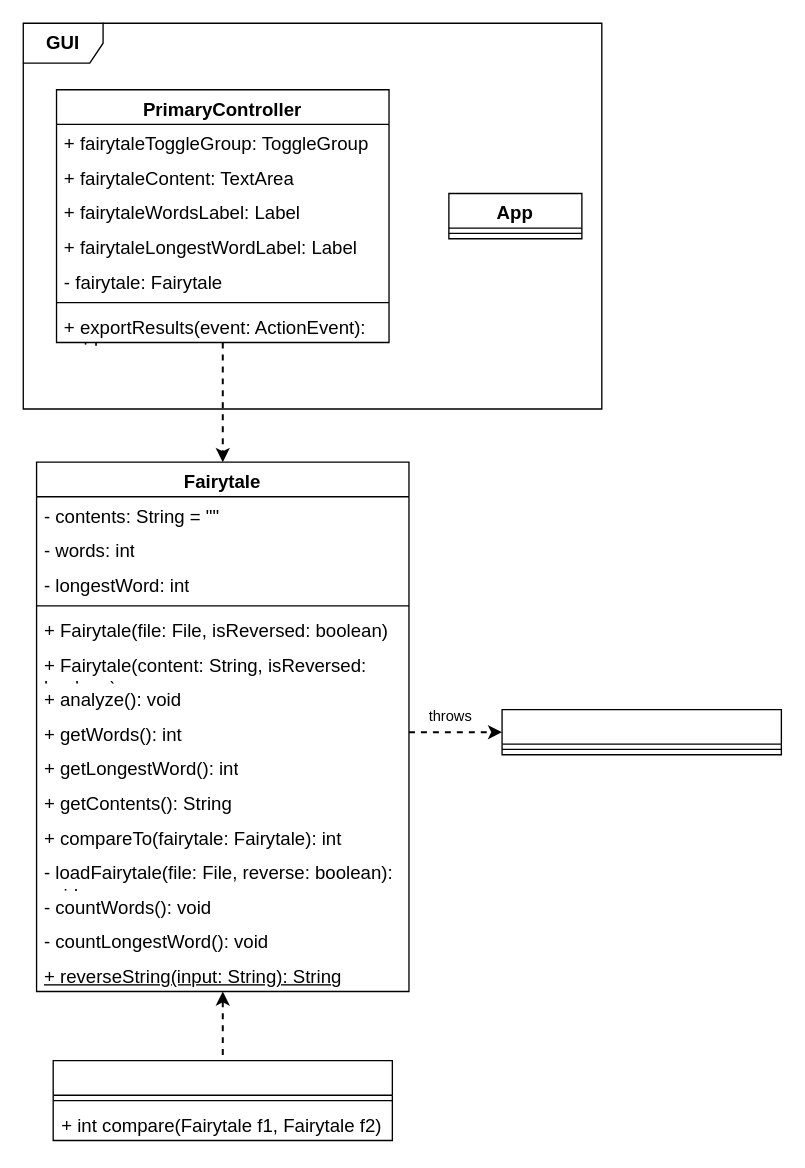
The diagram is 805 pixels wide and 1168 high, and some of its shapes have lost their labels. The shapes that lost their labels are listed below. From the top down, each one's box as (x1, y1, x2, y2) in pixels, then its label:
(501, 708, 781, 755): NotAFairytaleException
(52, 1059, 392, 1140): WordComparator
